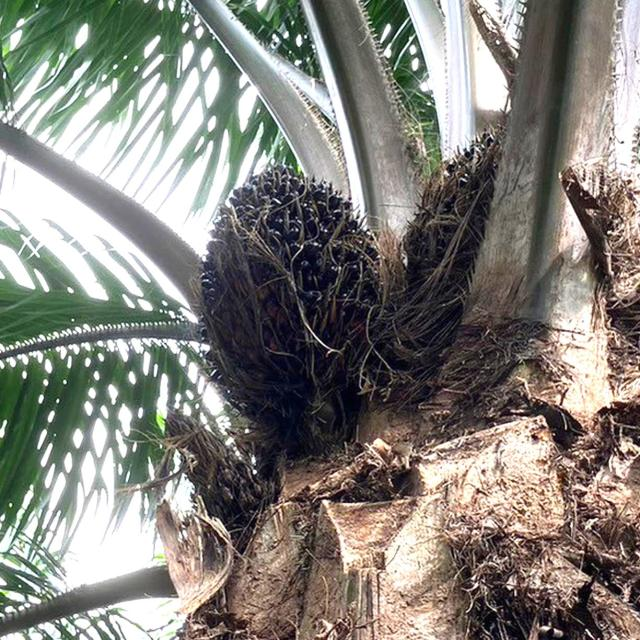almost: (190, 158, 388, 452)
